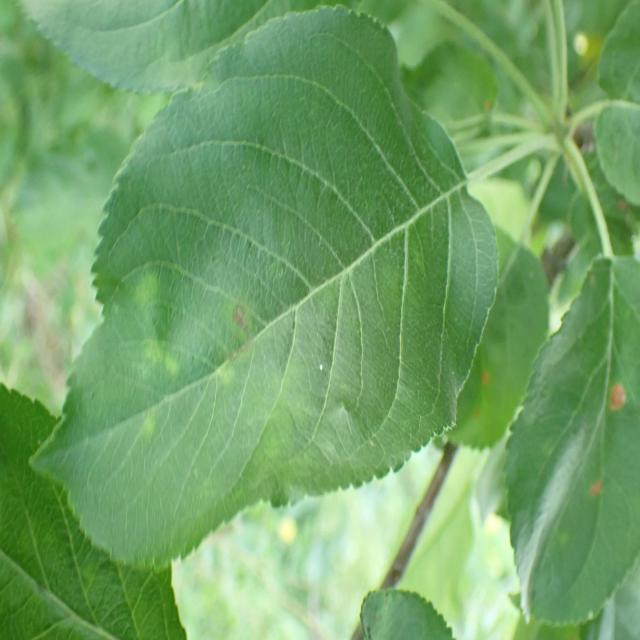Rust: (584, 472, 609, 515), (602, 379, 629, 415), (474, 356, 494, 398)
scab: (53, 223, 523, 482)
